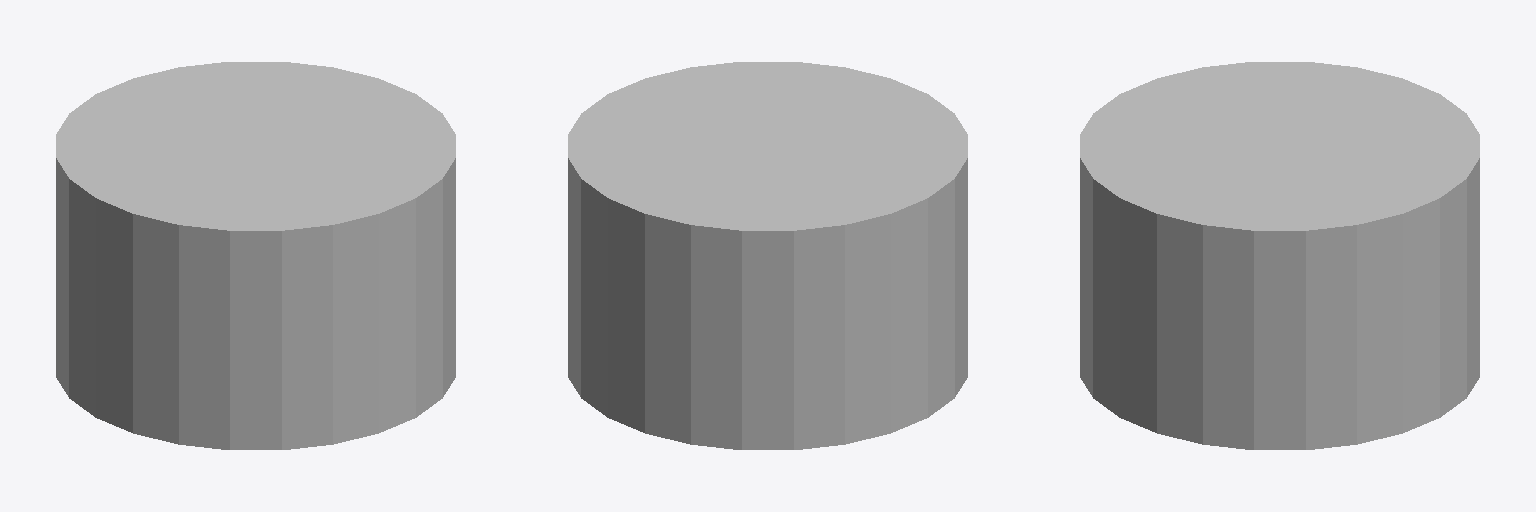
Rendered from YF-2MediumCollider.obj.
3 renders of one model, left to right at view 1: azimuth 30°, elevation 25°; view 2: azimuth 150°, elevation 25°; view 3: azimuth 270°, elevation 25°, orthographic.
Parts seen in each view (by area): view 1: YF-2MediumCollider; view 2: YF-2MediumCollider; view 3: YF-2MediumCollider.
Part boxes in pixels (bbox=[...]): YF-2MediumCollider: bbox=[56, 62, 455, 449]; YF-2MediumCollider: bbox=[568, 62, 967, 449]; YF-2MediumCollider: bbox=[1080, 62, 1479, 449].
Bounding box in the file's own units: 1.24 × 0.75 × 1.24.